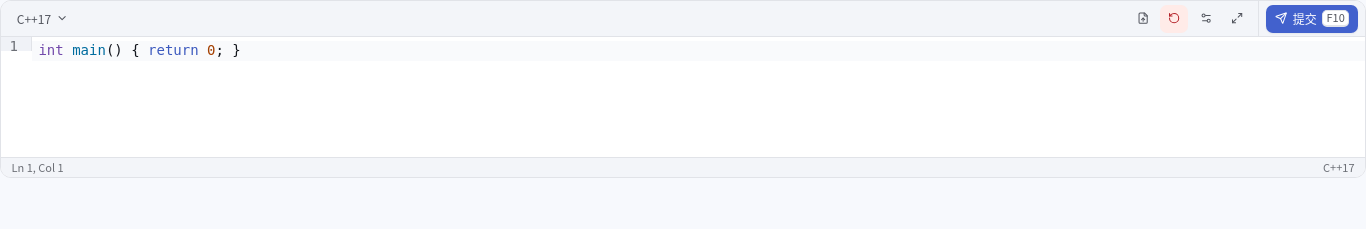
Test: krypton IDE problem submission › shows the Hydro error instead of silently falling back when the server rejects submission
The image size is (1366, 229).
Step 1. Click the button "提交 F10" → (1312, 18), box left=1266, top=4, right=1358, bottom=32
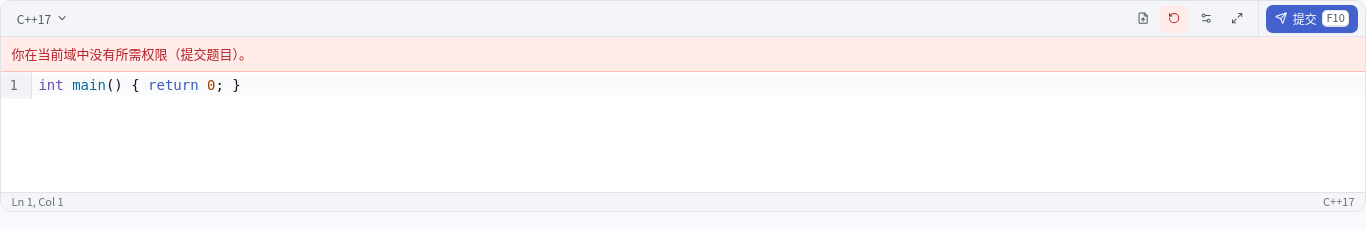
Check: the message reads "你在当前域中没有所需权限（提交题目）。", box left=12, top=44, right=252, bottom=63
